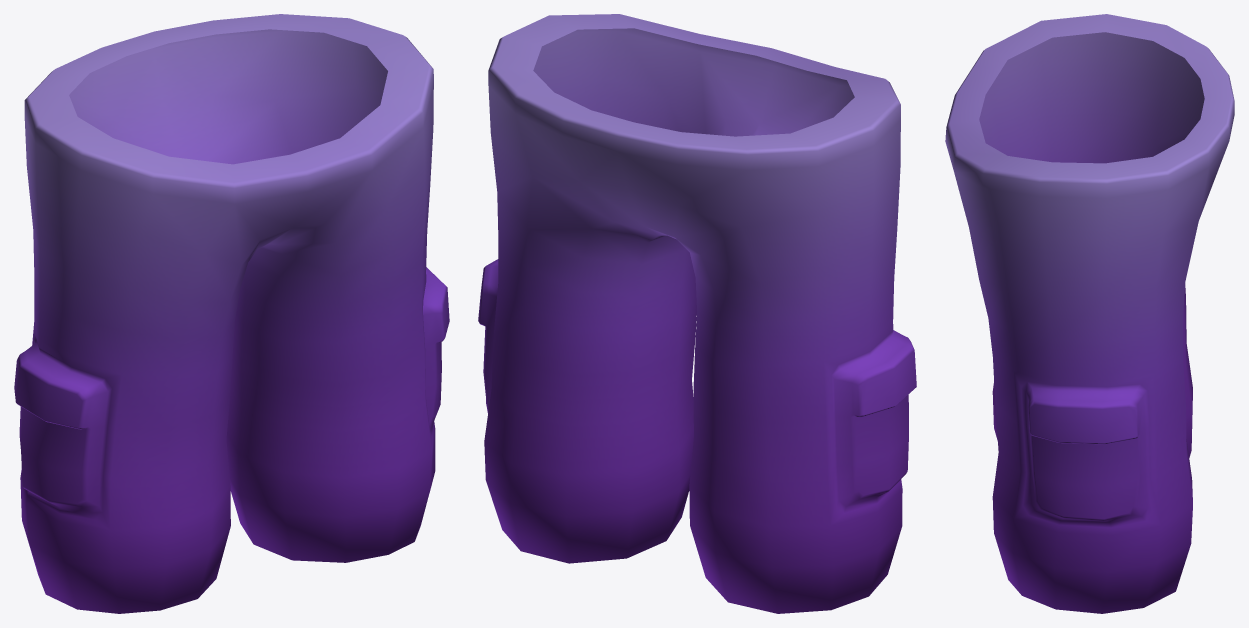
Rendered from Pants_15.glb.
3 views of the same model, side by side, from view 1: azimuth 30°, elevation 25°; view 2: azimuth 150°, elevation 25°; view 3: azimuth 270°, elevation 25° (orthographic). The views are drawn at different scales.
Visible parts, largest first — view 1: Pants_15; view 2: Pants_15; view 3: Pants_15.
Boxes of the visible parts, bbox=[...] form: Pants_15: bbox=[14, 14, 449, 613]; Pants_15: bbox=[478, 14, 916, 613]; Pants_15: bbox=[945, 14, 1234, 613].
Bounding box in the file's own units: 0.274 × 0.2982 × 0.1787.
1 material, 1 textured.
